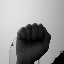a: (15, 23, 51, 60)
